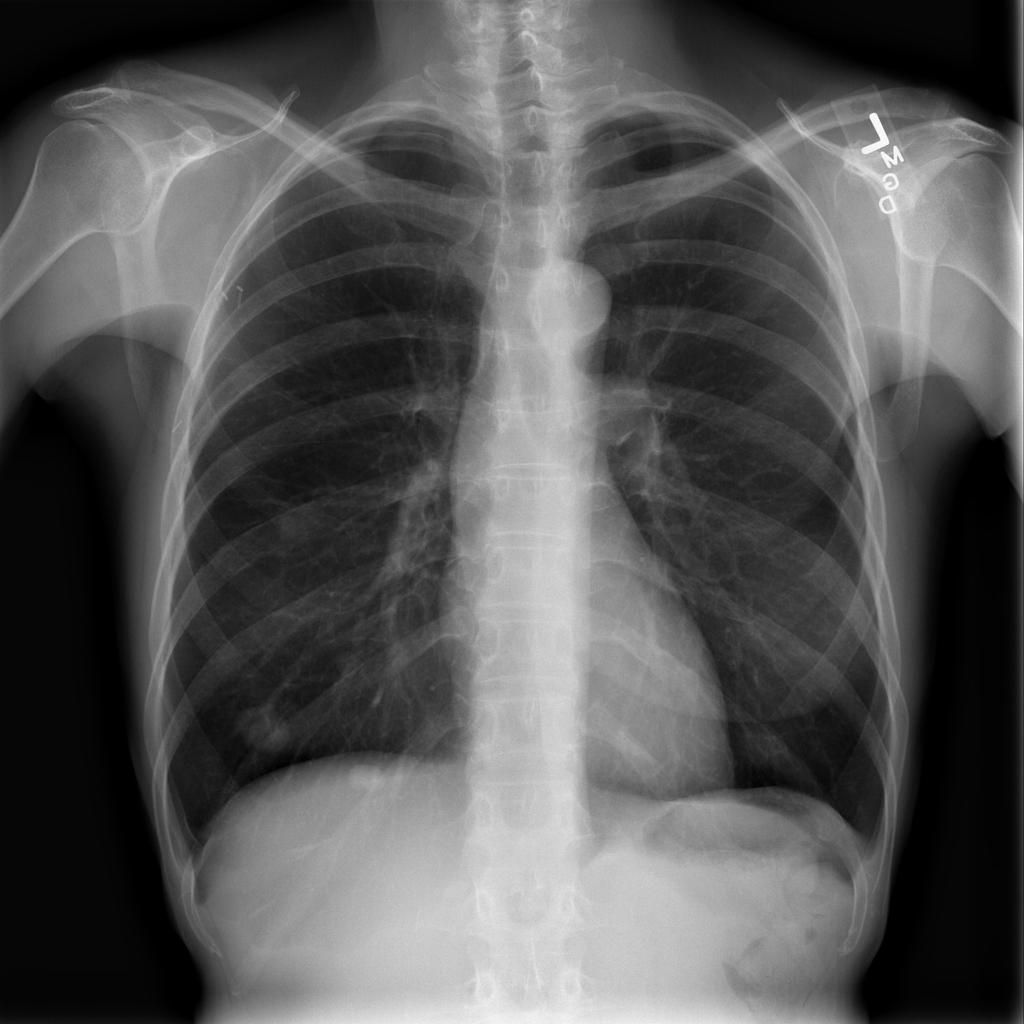nodule: (221, 692, 309, 766), (330, 738, 402, 811)
